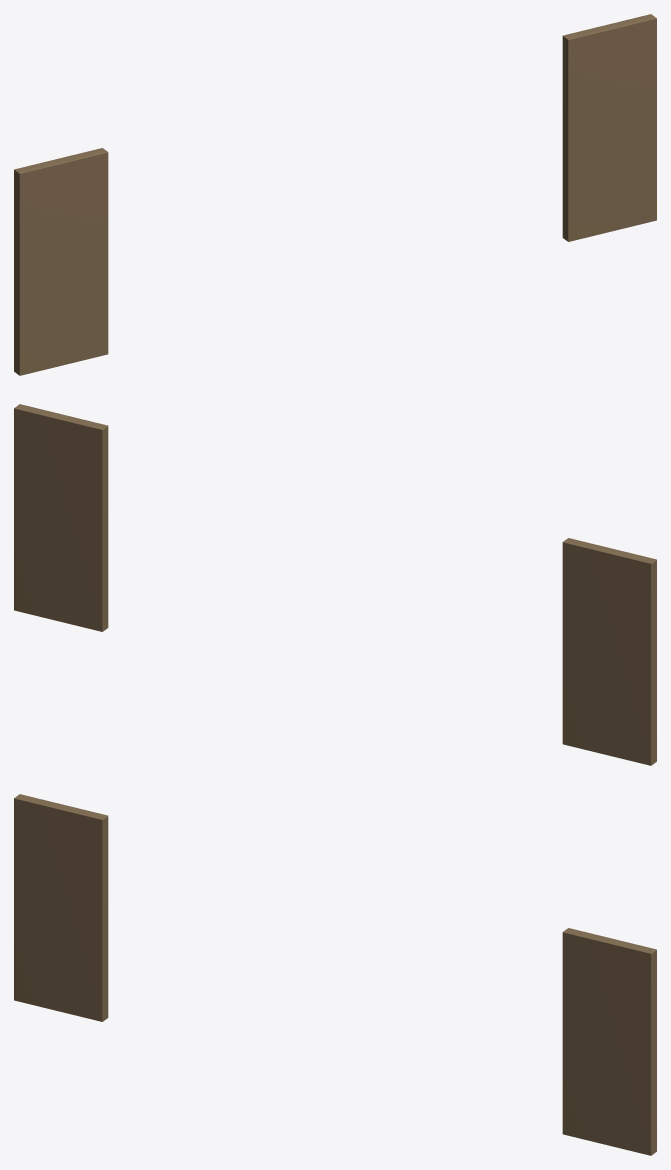
Rendered from Furniture_ClosedFrontReturn62.fbx.
3 renders of one model, top to bottom at view 1: azimuth 30°, elevation 25°; view 2: azimuth 150°, elevation 25°; view 3: azimuth 330°, elevation 25°, orthographic.
Parts seen in each view (by area): view 1: Furniture_ClosedFrontReturn62; view 2: Furniture_ClosedFrontReturn62; view 3: Furniture_ClosedFrontReturn62.
Boxes of the visible parts, x1=… form: Furniture_ClosedFrontReturn62: x1=14, y1=14, x2=656, y2=375; Furniture_ClosedFrontReturn62: x1=14, y1=404, x2=656, y2=765; Furniture_ClosedFrontReturn62: x1=14, y1=794, x2=656, y2=1155.
Bounding box in the file's own units: 988 × 300 × 16.
